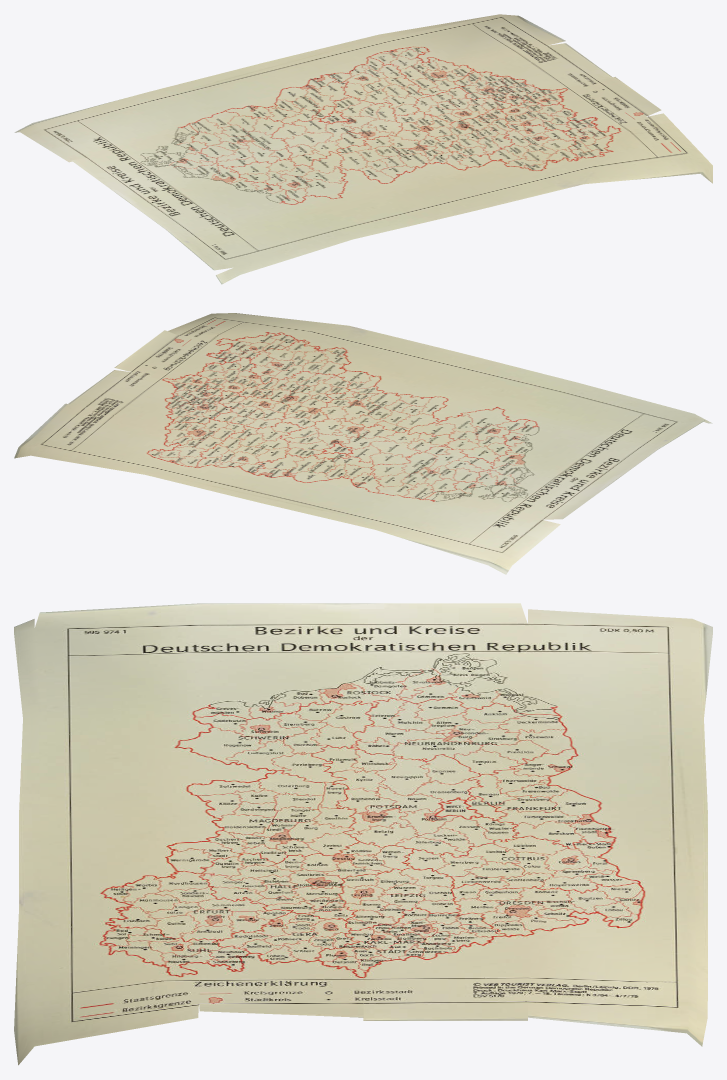
File: obj_Poster_001.obj
3 renders of one model, top to bottom at view 1: azimuth 30°, elevation 25°; view 2: azimuth 150°, elevation 25°; view 3: azimuth 270°, elevation 25°, orthographic. The views are drawn at different scales.
Parts seen in each view (by area): view 1: obj_Poster_001; view 2: obj_Poster_001; view 3: obj_Poster_001.
Boxes of the visible parts, x1,y1,x2,y2 form: obj_Poster_001: (14, 14, 712, 284); obj_Poster_001: (14, 313, 712, 574); obj_Poster_001: (14, 603, 712, 1065).
Bounding box in the file's own units: 0.7283 × 0.0482 × 0.5267.
